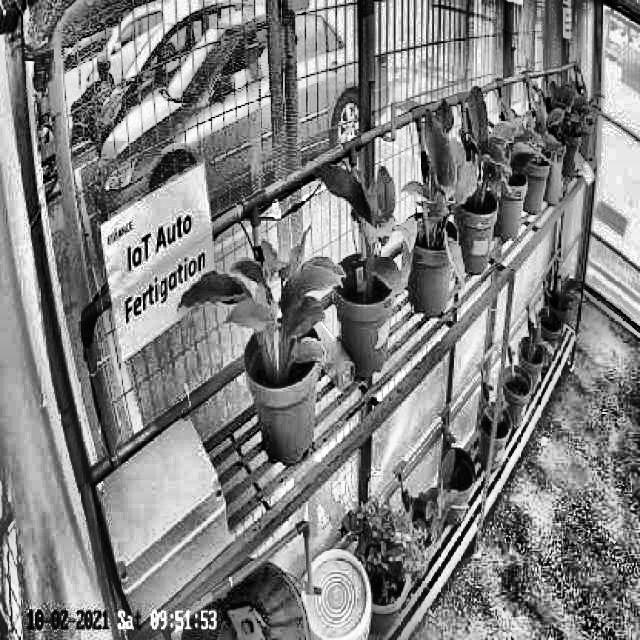plants: (176, 220, 347, 362), (315, 154, 420, 298), (394, 106, 472, 294), (446, 89, 520, 205)
